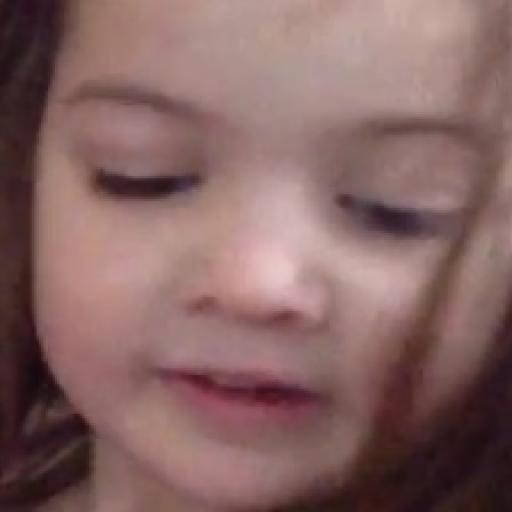Autism: (49, 0, 512, 512)
